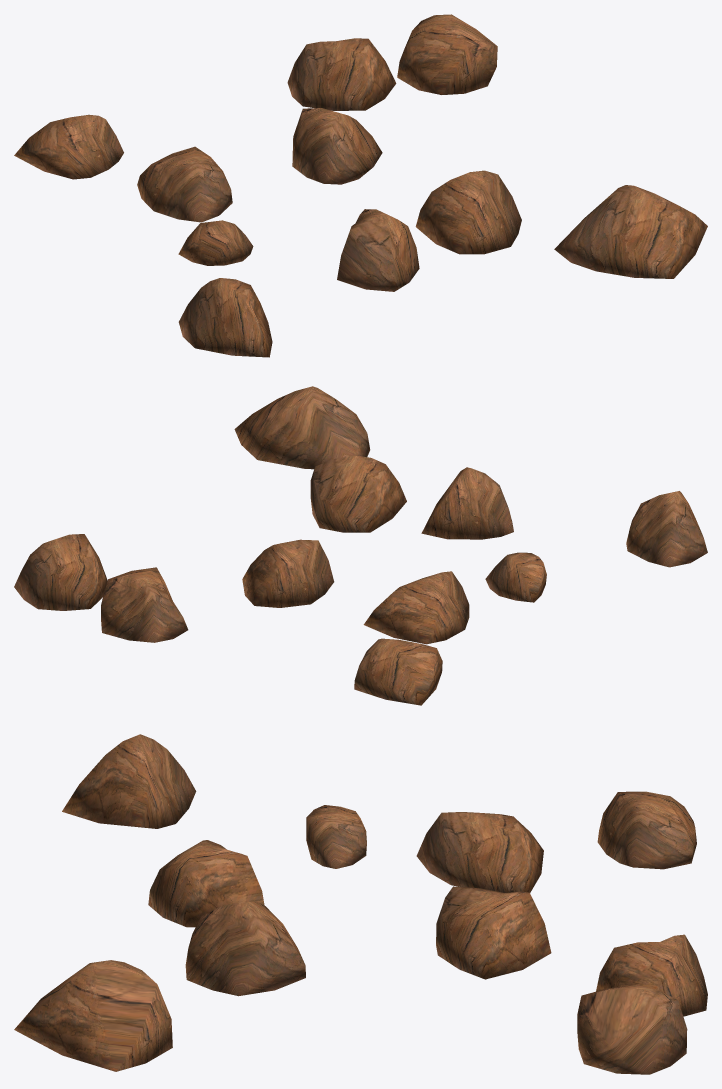
The model's file is rock_tatt_jundland_pebble_a1_l0.fbx.
3 renders of one model, top to bottom at view 1: azimuth 30°, elevation 25°; view 2: azimuth 150°, elevation 25°; view 3: azimuth 270°, elevation 25°, orthographic. The views are drawn at different scales.
Visible parts, largest first — view 1: mesh_node; view 2: mesh_node; view 3: mesh_node.
Boxes of the visible parts, left/top/right/bottom form: mesh_node: left=14, top=14, right=707, bottom=357; mesh_node: left=14, top=386, right=707, bottom=705; mesh_node: left=14, top=734, right=707, bottom=1074.
Bounding box in the file's own units: 1.17 × 0.1361 × 1.18.
